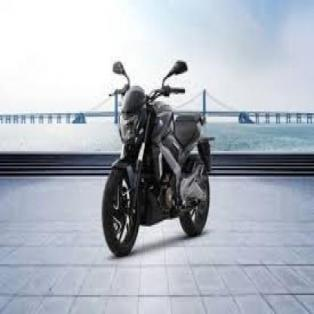Motocicleta: (94, 47, 214, 256)
